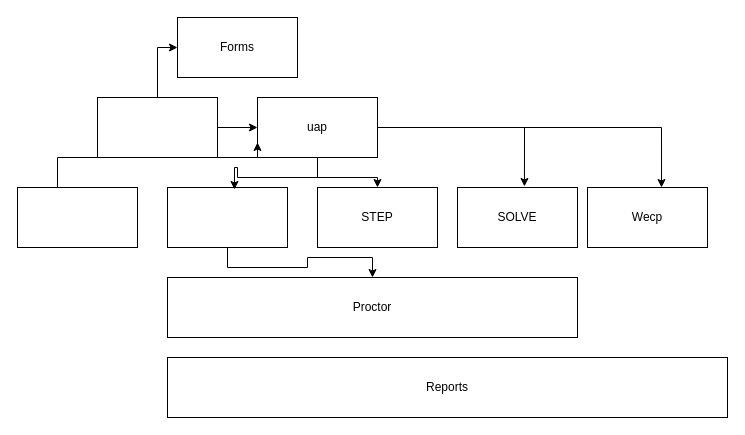
Some shapes in this 745 by 435 pixel diagram are drawn without their labels. Each missing label, with the centre of its shape:
"AWS Assessment" belongs at (77,217).
"CAMPUS" belongs at (157,127).
"TAO" belongs at (227,217).
